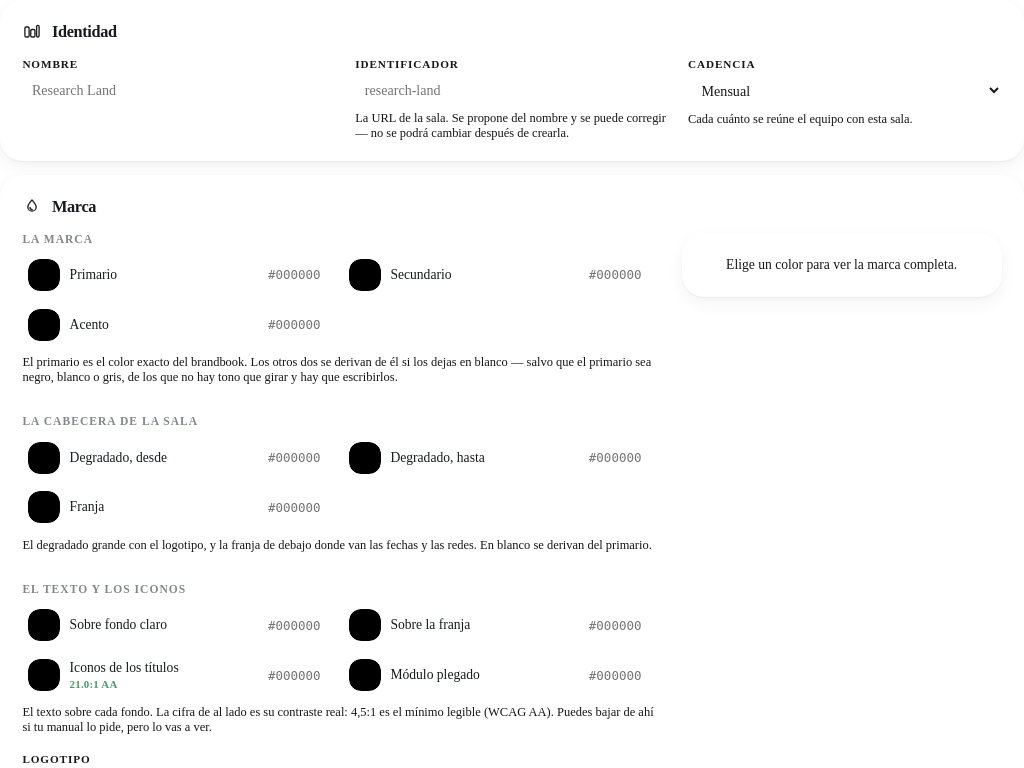
FormularioSala › propone el slug al escribir el nombre, y se puede corregir
Step 1. Type "Más Salud" into the field labelled "Nombre" → coordinates (179, 90), box top-left (22, 74), bottom-right (336, 106)
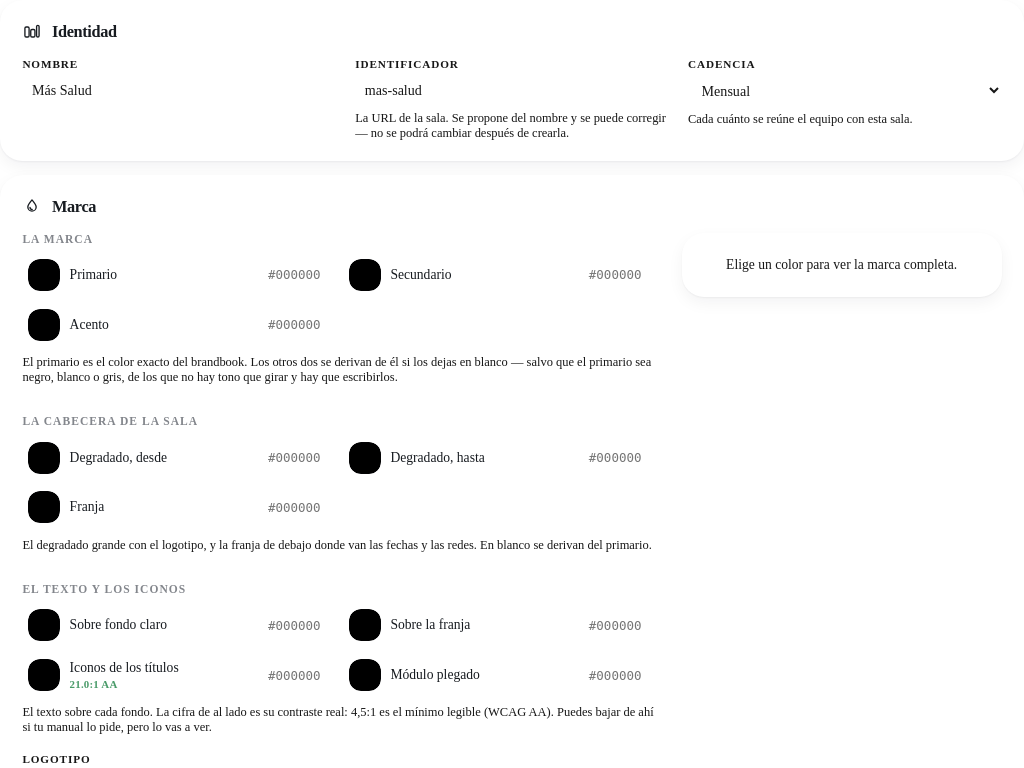
Expected: the field labelled "Identificador" holds "mas-salud", top-left (355, 74), bottom-right (669, 106)
